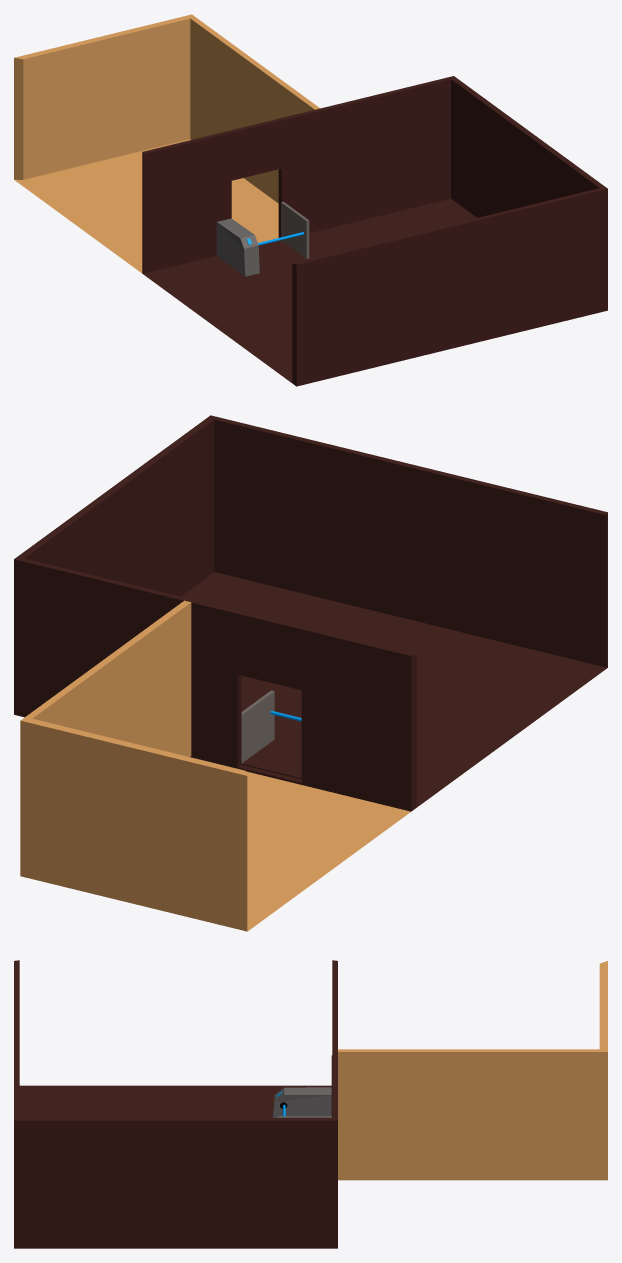
File: PieceTestblend.fbx
The picture shows the model from 3 angles, top to bottom: view 1: azimuth 30°, elevation 25°; view 2: azimuth 150°, elevation 25°; view 3: azimuth 270°, elevation 25°; orthographic projection. The views are drawn at different scales.
Visible parts, largest first — view 1: Salle0, Salle1, Cube.001, Cube.002; view 2: Salle0, Salle1, Cube.002; view 3: Salle0, Salle1, Cube.001.
Part boxes in pixels (left/top/right/bottom): Salle0: left=142, top=76, right=607, bottom=386; Salle1: left=14, top=14, right=319, bottom=273; Cube.001: left=216, top=218, right=259, bottom=276; Cube.002: left=281, top=201, right=309, bottom=258; Salle0: left=14, top=415, right=607, bottom=811; Salle1: left=20, top=600, right=410, bottom=931; Cube.002: left=241, top=690, right=274, bottom=763; Salle0: left=14, top=960, right=337, bottom=1248; Salle1: left=337, top=961, right=607, bottom=1180; Cube.001: left=272, top=1087, right=331, bottom=1117.
Size of the model in its own units: 1407 by 550 by 2200.
